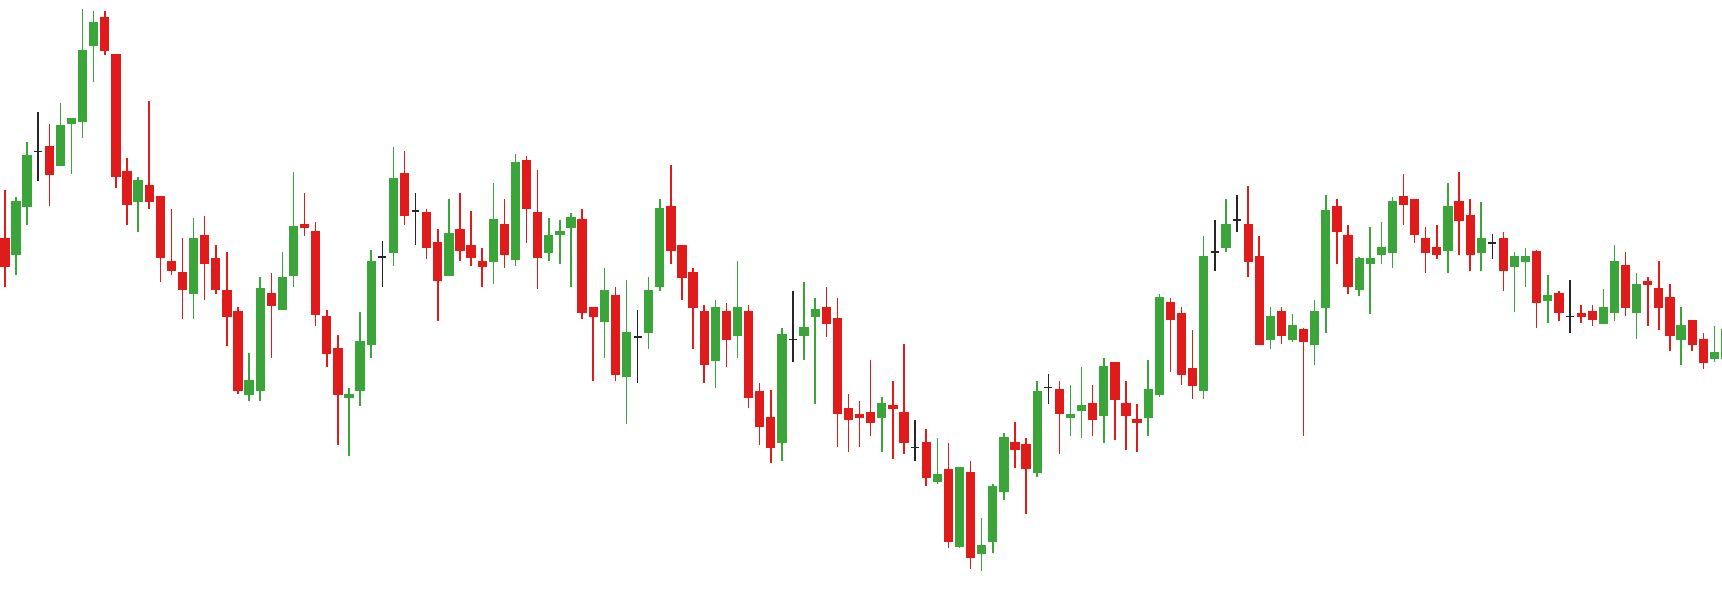buy: (245, 293, 355, 461)
sell: (286, 149, 410, 279), (1319, 174, 1409, 255)
